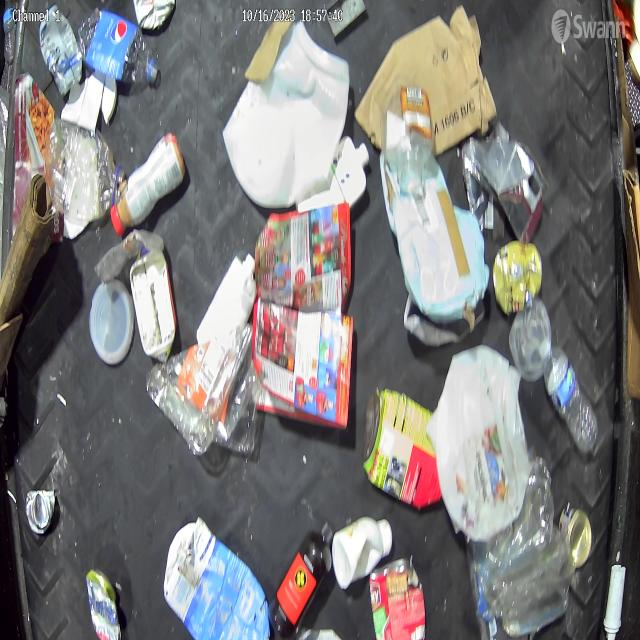can: (362, 390, 440, 510), (369, 554, 426, 640), (39, 4, 82, 98), (492, 240, 543, 316), (85, 566, 123, 640), (559, 504, 592, 567), (26, 488, 56, 536)
milk_jug: (222, 21, 350, 210), (427, 342, 532, 541)
non_white_jug: (162, 518, 270, 640)
plastic_bottle: (47, 121, 126, 218), (539, 336, 599, 455), (77, 5, 158, 86), (380, 81, 435, 193), (4, 0, 15, 62)
